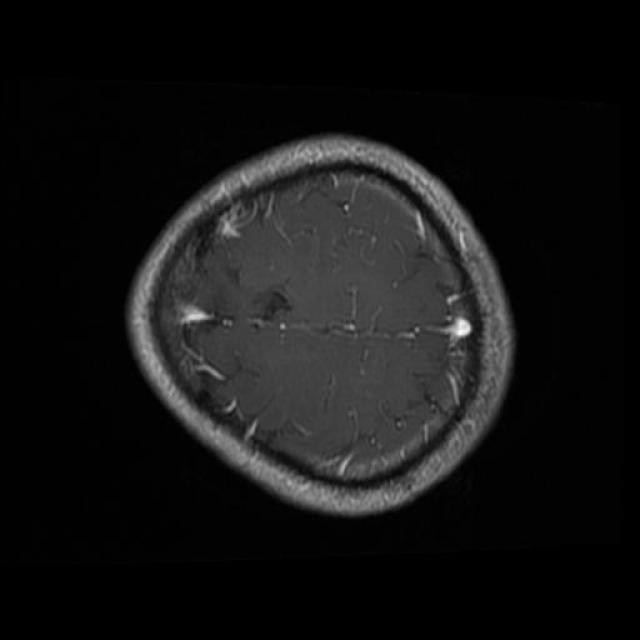Glioma: (162, 233, 225, 398)
